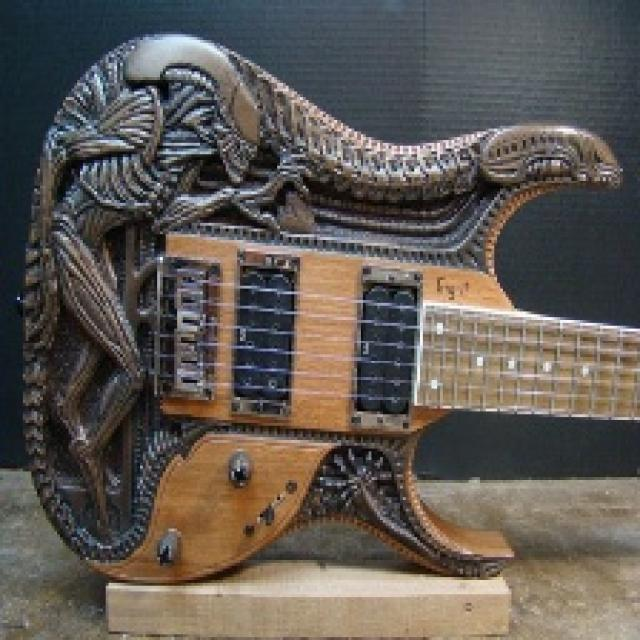guitar: (0, 35, 640, 592)
